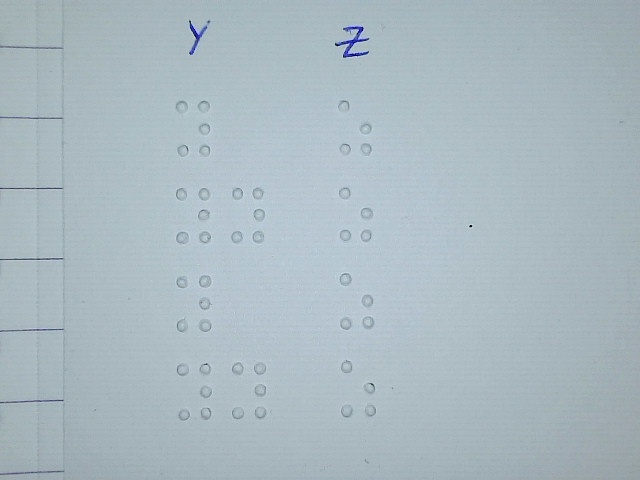Y: (174, 98, 212, 159), (230, 184, 268, 245), (174, 184, 212, 245), (175, 272, 213, 333), (230, 359, 268, 420)
Z: (336, 98, 374, 159), (337, 184, 375, 245), (338, 271, 376, 332), (339, 358, 377, 419)
